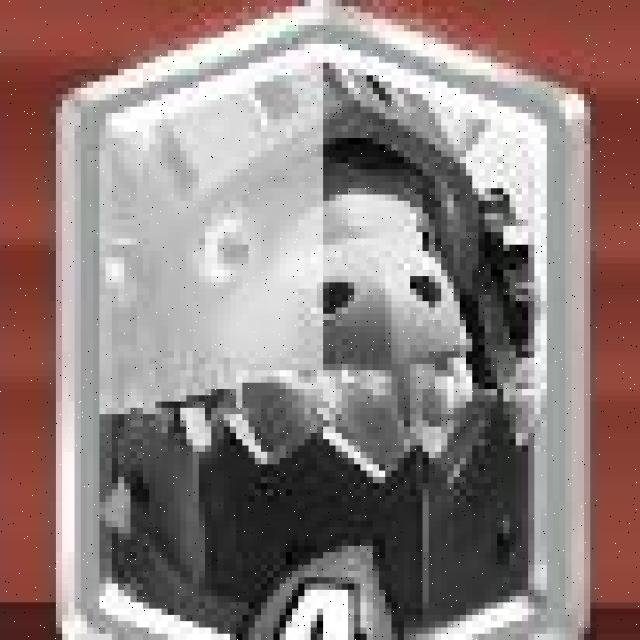Inferno_Dragon: (55, 5, 592, 640)
